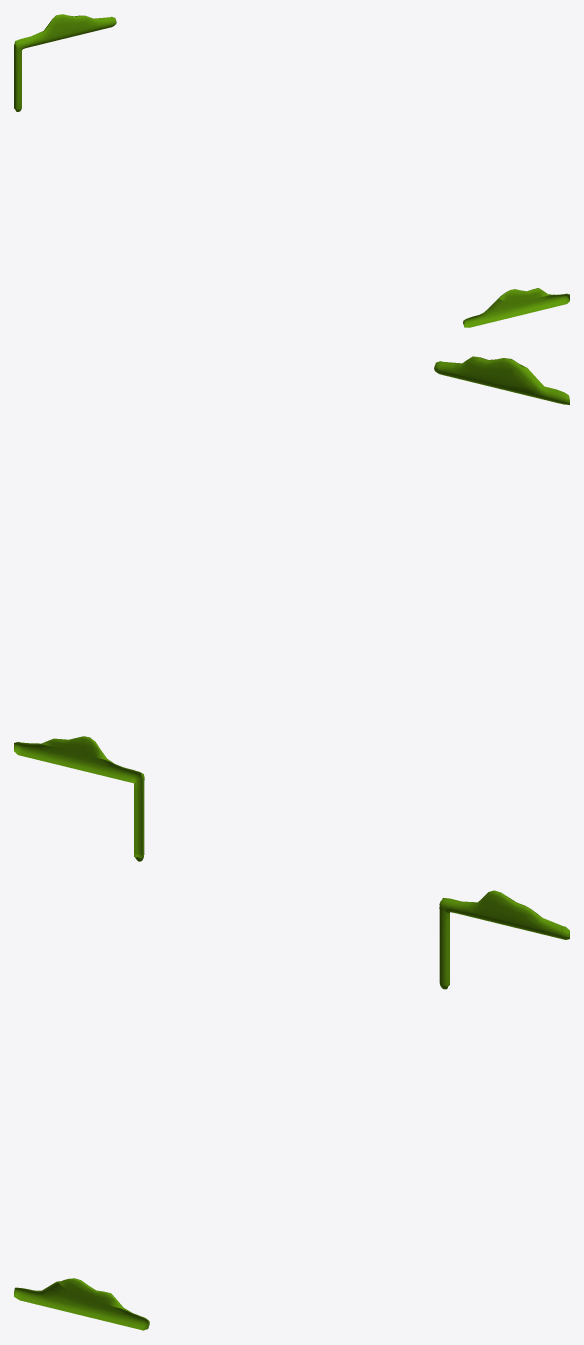
Rendered from hideandsmash_wallmoss.fbx.
3 views of the same model, one above another, from view 1: azimuth 30°, elevation 25°; view 2: azimuth 150°, elevation 25°; view 3: azimuth 330°, elevation 25° (orthographic). The views are drawn at different scales.
Parts seen in each view (by area): view 1: moss_L_geo, moss_R_geo; view 2: moss_L_geo, moss_R_geo; view 3: moss_L_geo, moss_R_geo.
Part boxes in pixels (x1,y1,x2,y2): moss_L_geo: (14, 14, 116, 111); moss_R_geo: (463, 288, 569, 327); moss_L_geo: (14, 736, 144, 861); moss_R_geo: (434, 356, 569, 404); moss_L_geo: (439, 890, 569, 989); moss_R_geo: (14, 1278, 149, 1330).
Size of the model in its own units: 26.42 by 13.61 by 111.
